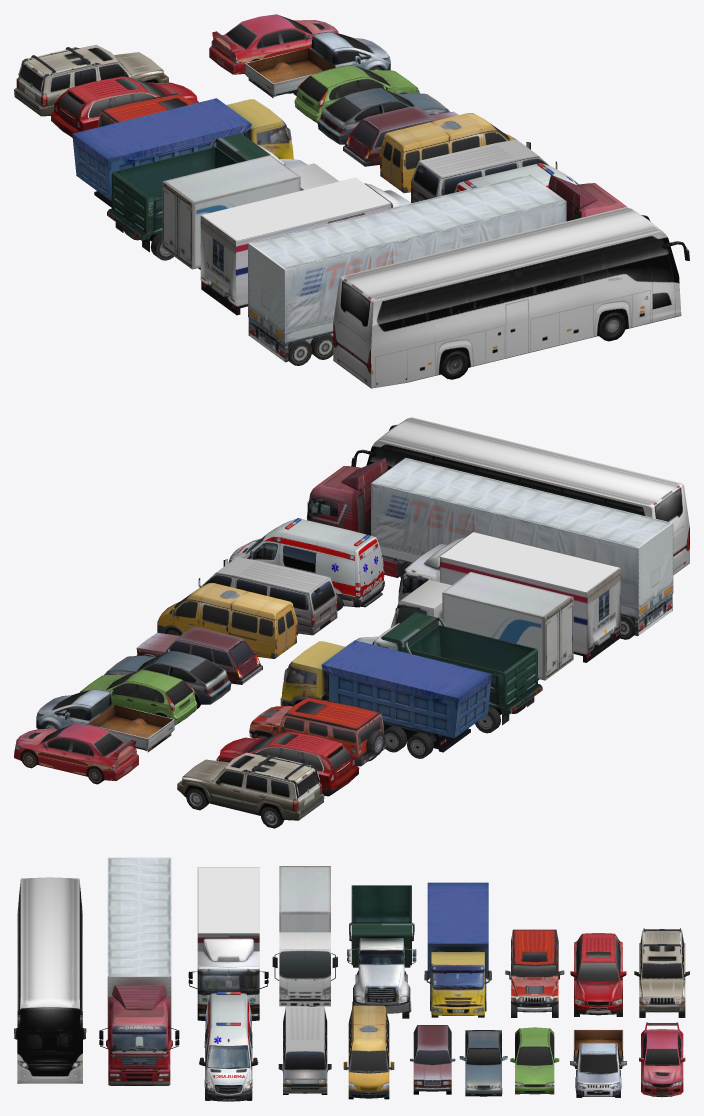
Rendered from traffic_racer_npc_vehicles_pack.glb.
3 views of the same model, one above another, from view 1: azimuth 30°, elevation 25°; view 2: azimuth 150°, elevation 25°; view 3: azimuth 270°, elevation 25° (orthographic). The views are drawn at different scales.
Visible parts, largest first — view 1: scania_bus_8, tir_31, truck3_14, truck1_21, isuzu.001_25, truck2_18, jeep_commander_1, gazel_bus_6, pickup_new_24, lancer_evo_5, toyota_hiace_9, volvo_xc90_10 (+5 smaller); view 2: tir_31, scania_bus_8, truck3_14, truck1_21, isuzu.001_25, jeep_commander_1, ambulans_yeni_7, truck2_18, gazel_bus_6, lancer_evo_5, hummer_0, toyota_hiace_9 (+5 smaller); view 3: tir_31, scania_bus_8, truck1_21, truck3_14, isuzu.001_25, truck2_18, ambulans_yeni_7, hummer_0, volvo_xc90_10, jeep_commander_1, toyota_hiace_9, gazel_bus_6 (+5 smaller).
Part boxes in pixels (x1=…): scania_bus_8: x1=333, y1=207, x2=689, y2=388; tir_31: x1=248, y1=174, x2=627, y2=362; truck3_14: x1=72, y1=98, x2=293, y2=207; truck1_21: x1=200, y1=177, x2=411, y2=315; isuzu.001_25: x1=162, y1=155, x2=338, y2=269; truck2_18: x1=107, y1=133, x2=307, y2=252; jeep_commander_1: x1=14, y1=44, x2=168, y2=116; gazel_bus_6: x1=379, y1=113, x2=516, y2=193; pickup_new_24: x1=245, y1=31, x2=390, y2=98; lancer_evo_5: x1=209, y1=14, x2=338, y2=74; toyota_hiace_9: x1=411, y1=139, x2=557, y2=202; volvo_xc90_10: x1=50, y1=76, x2=198, y2=137; tir_31: x1=306, y1=457, x2=673, y2=635; scania_bus_8: x1=351, y1=417, x2=689, y2=575; truck3_14: x1=280, y1=640, x2=491, y2=752; truck1_21: x1=398, y1=532, x2=620, y2=662; isuzu.001_25: x1=390, y1=572, x2=573, y2=680; jeep_commander_1: x1=177, y1=752, x2=324, y2=828; ambulans_yeni_7: x1=228, y1=518, x2=384, y2=611; truck2_18: x1=347, y1=612, x2=542, y2=725; gazel_bus_6: x1=157, y1=583, x2=297, y2=658; lancer_evo_5: x1=14, y1=723, x2=138, y2=784; hummer_0: x1=249, y1=696, x2=387, y2=766; toyota_hiace_9: x1=198, y1=557, x2=337, y2=635; tir_31: x1=99, y1=857, x2=179, y2=1085; scania_bus_8: x1=14, y1=877, x2=86, y2=1083; truck1_21: x1=188, y1=867, x2=268, y2=1020; truck3_14: x1=424, y1=882, x2=491, y2=1015; isuzu.001_25: x1=272, y1=866, x2=337, y2=1006; truck2_18: x1=347, y1=885, x2=416, y2=1013; ambulans_yeni_7: x1=199, y1=992, x2=258, y2=1101; hummer_0: x1=505, y1=929, x2=564, y2=1017; volvo_xc90_10: x1=570, y1=933, x2=626, y2=1016; jeep_commander_1: x1=634, y1=928, x2=689, y2=1017; toyota_hiace_9: x1=278, y1=1006, x2=331, y2=1094; gazel_bus_6: x1=343, y1=1005, x2=394, y2=1099.
Bounding box in the file's own units: 31.13 × 7.55 × 53.01.
Materials: 18 (18 with a texture image).
